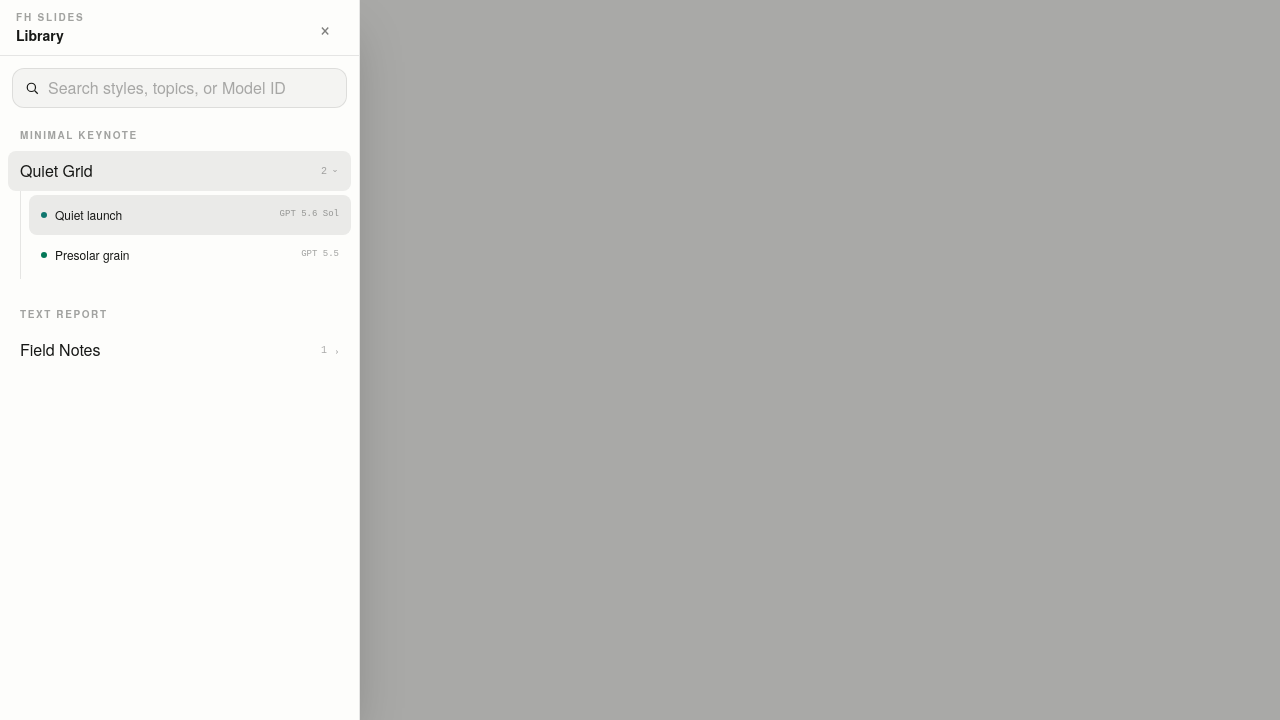
Test: LibraryDrawer › searches exact Topics through Style, Topic, and Model ID text
The image size is (1280, 720).
Type "Doubao" into the search field at (191, 88), box [48,76,334,100]
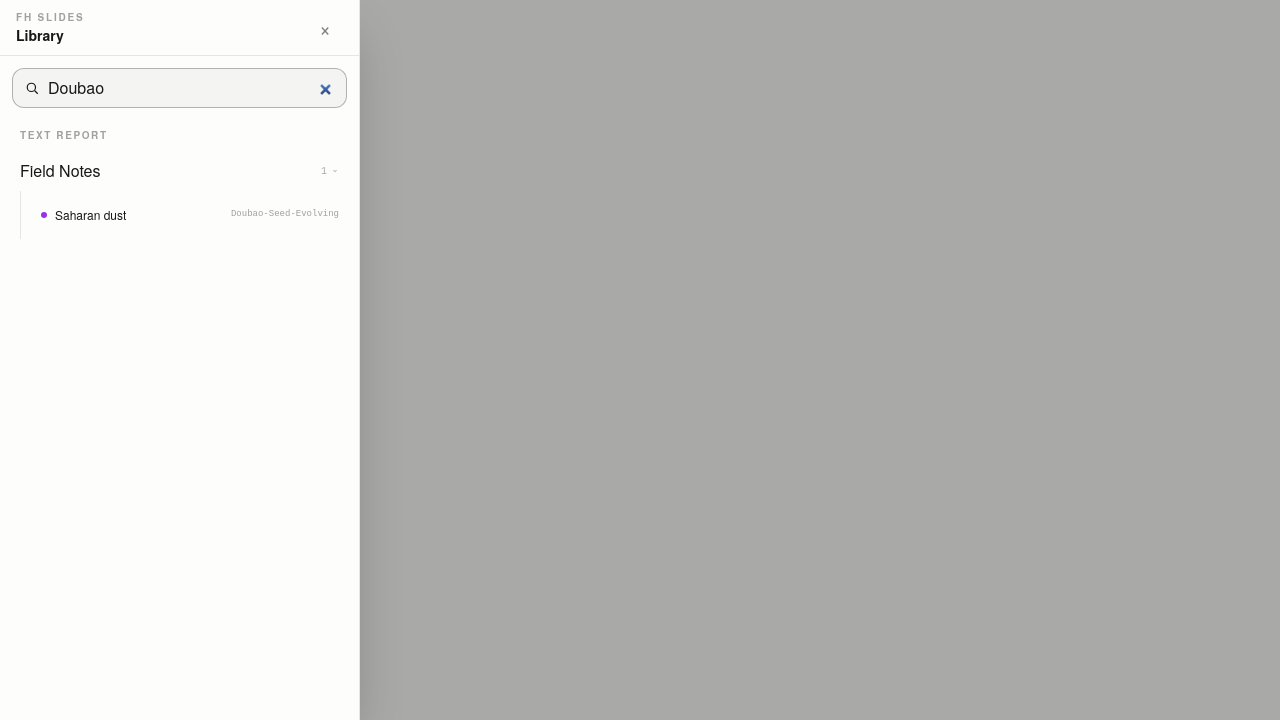
Expected: the text "Saharan dust" is shown, [55,206,126,223]
Expected: the button "Quiet launch" is gone
